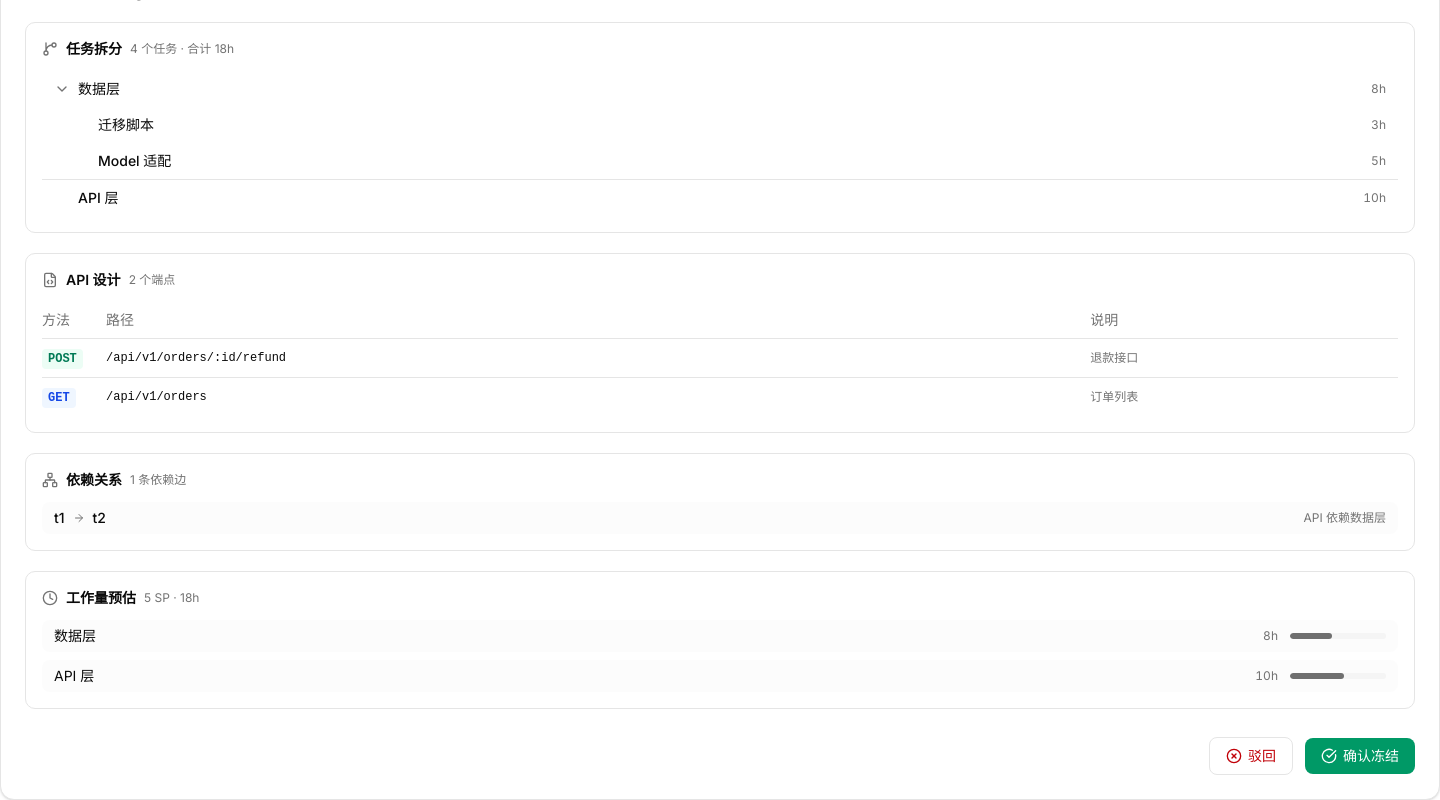
Scenario: PlanReviewPanel › validates reason is required on rejection
This screenshot has width=1440, height=800.
(page scrolled)
Click the button "驳回": coordinates (1251, 756) [1209,737,1293,775]
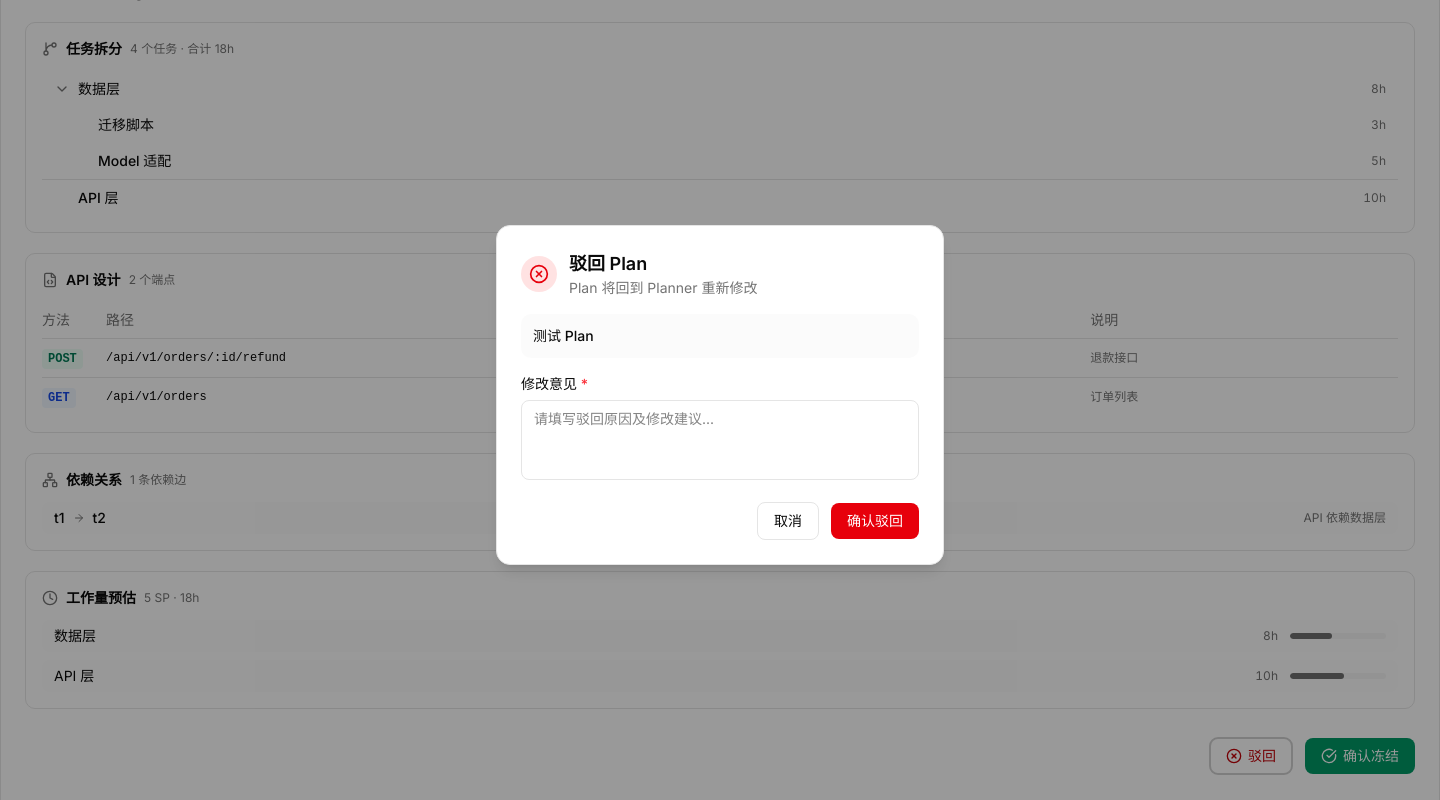
Click the button "确认驳回": coordinates (875, 521) [831,503,919,539]
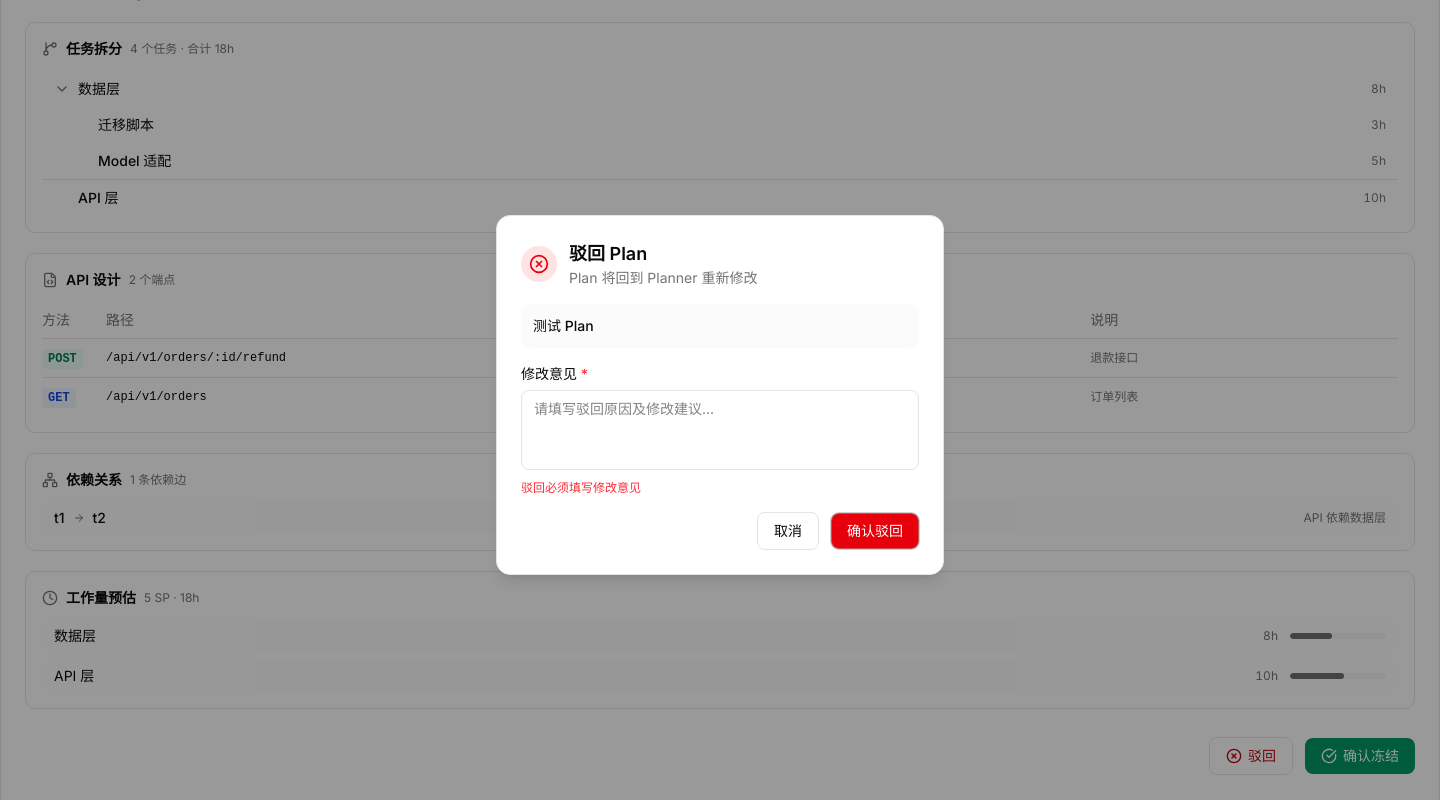
Expected: the text "驳回必须填写修改意见" is shown, [521,480,641,495]
